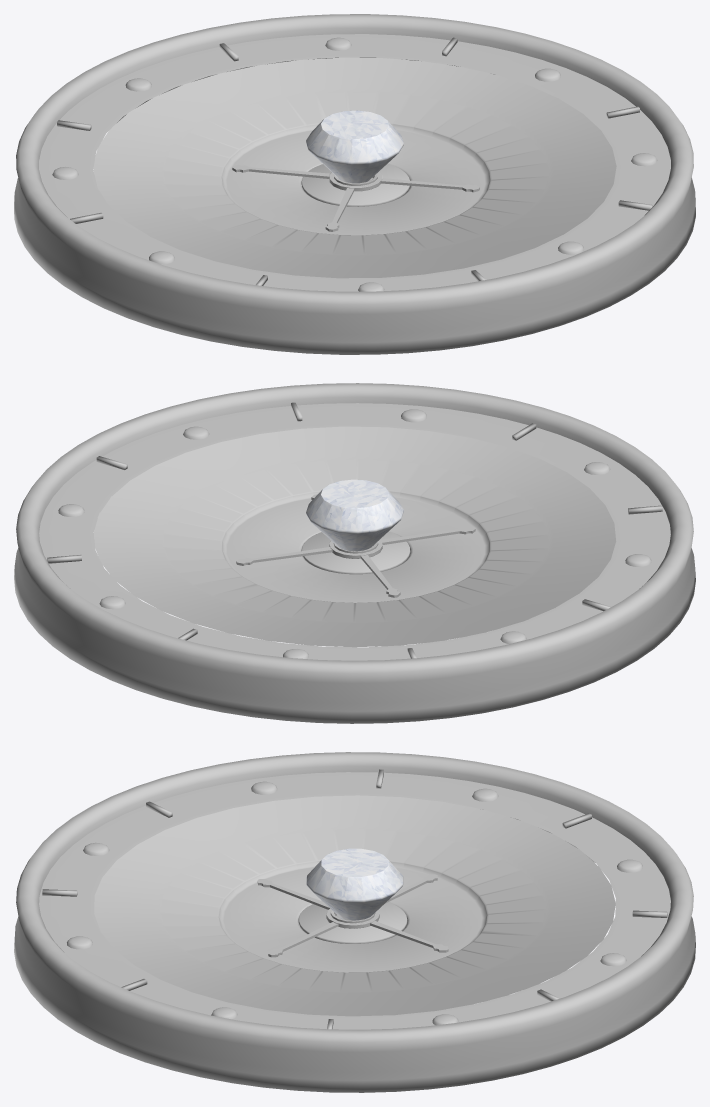
The model's file is round new.fbx.
3 renders of one model, top to bottom at view 1: azimuth 30°, elevation 25°; view 2: azimuth 150°, elevation 25°; view 3: azimuth 270°, elevation 25°, orthographic.
Parts seen in each view (by area): view 1: Outer, Inner, Diamond; view 2: Outer, Inner, Diamond; view 3: Outer, Inner, Diamond.
Part boxes in pixels (<box>): Outer: <box>14,14,695,354</box>; Inner: <box>93,57,616,278</box>; Diamond: <box>306,110,403,183</box>; Outer: <box>14,383,695,723</box>; Inner: <box>94,426,616,647</box>; Diamond: <box>306,479,403,551</box>; Outer: <box>14,752,695,1092</box>; Inner: <box>94,795,615,1016</box>; Diamond: <box>306,848,403,920</box>.
Bounding box in the file's own units: 34.44 × 4.84 × 34.44.
